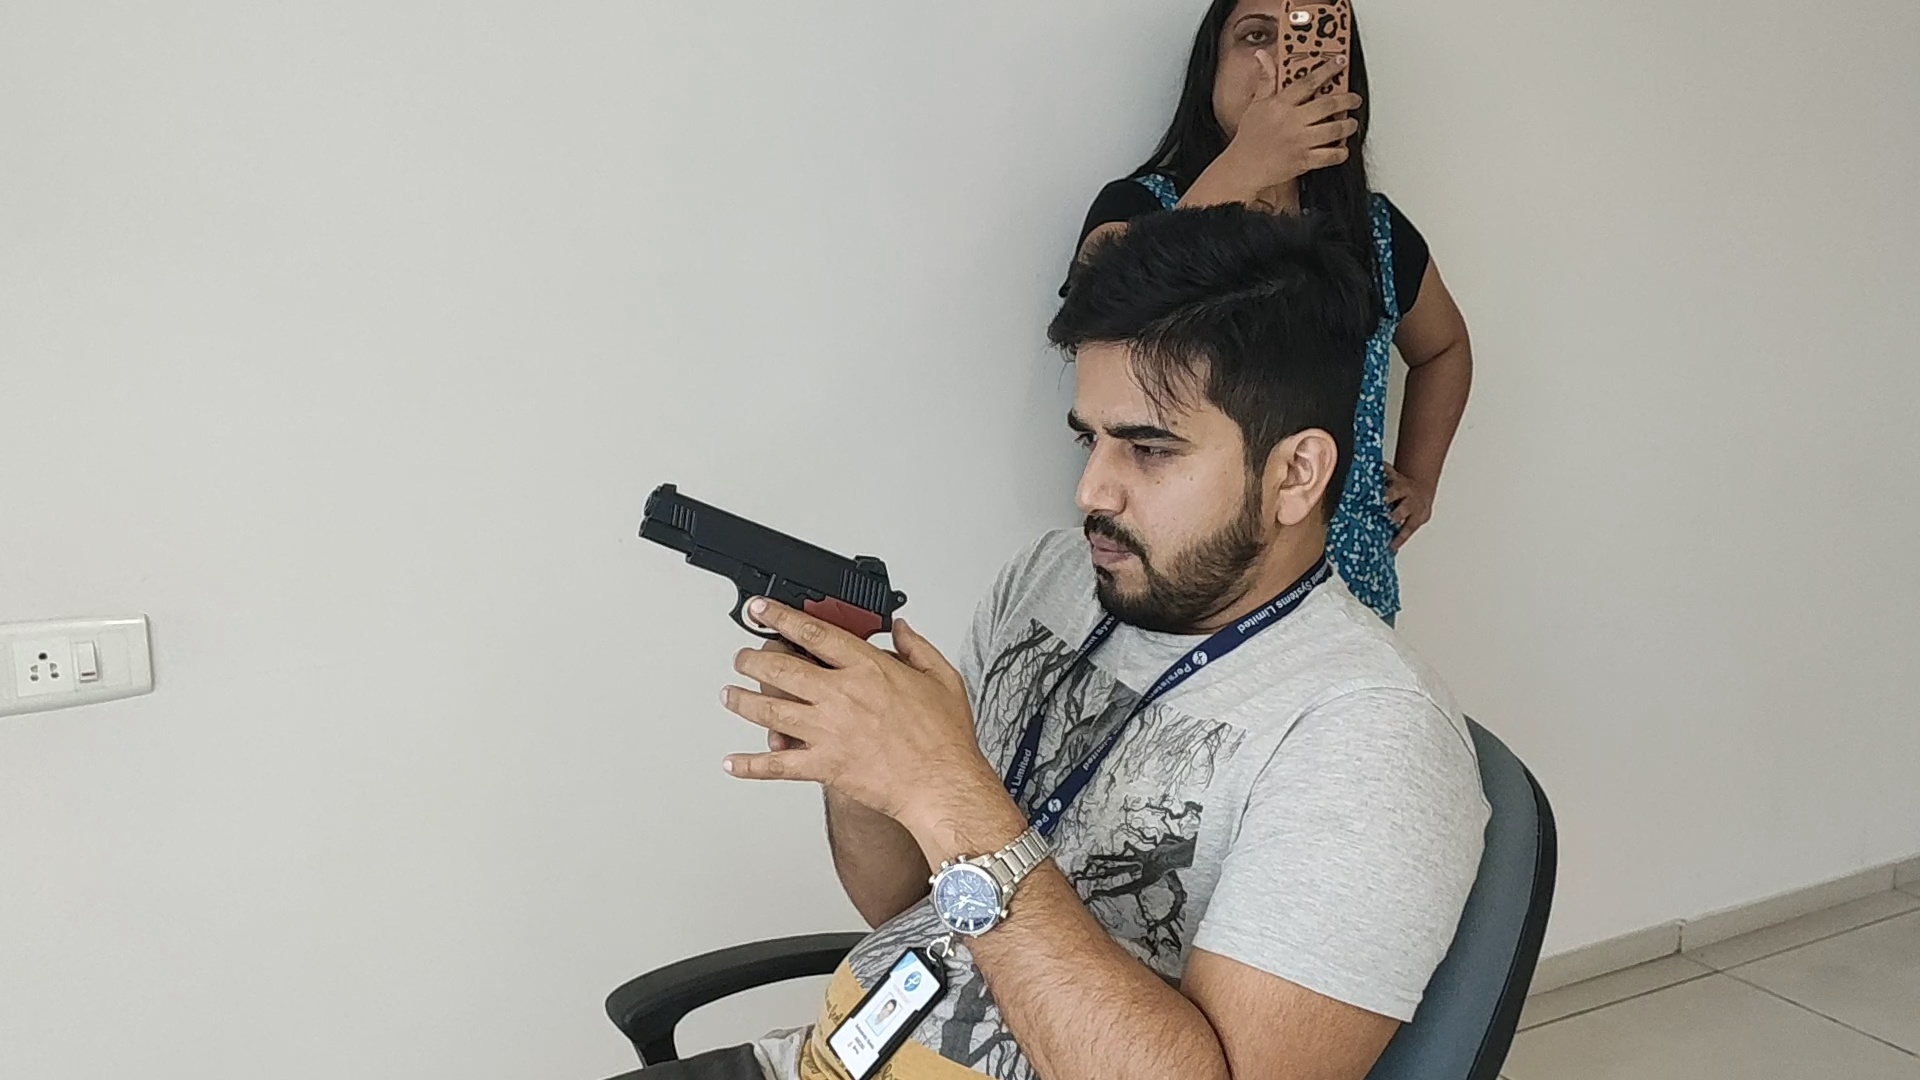gun: (636, 481, 909, 603)
